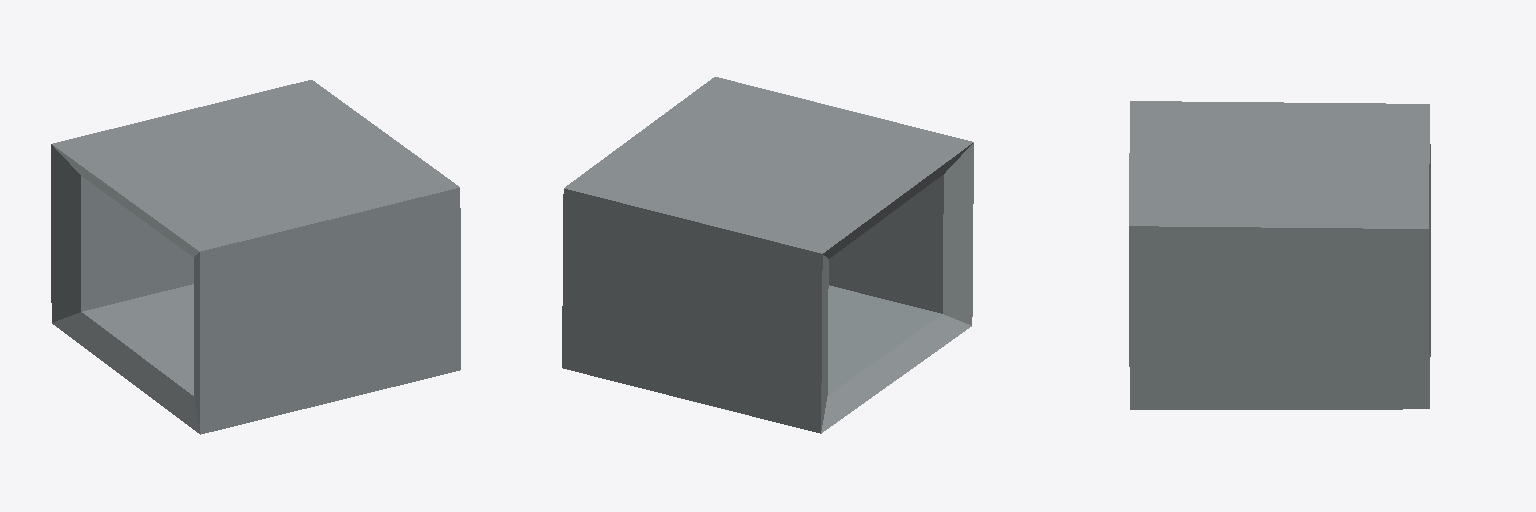
File: belt.obj
3 views of the same model, side by side, from view 1: azimuth 30°, elevation 25°; view 2: azimuth 150°, elevation 25°; view 3: azimuth 270°, elevation 25° (orthographic).
Parts seen in each view (by area): view 1: Cube_Cube.001; view 2: Cube_Cube.001; view 3: Cube_Cube.001.
Part boxes in pixels (x1,y1,x2,y2): Cube_Cube.001: (51,80,460,434); Cube_Cube.001: (562,77,973,433); Cube_Cube.001: (1129,101,1430,409).
Bounding box in the file's own units: 6.48 × 4.37 × 6.48.